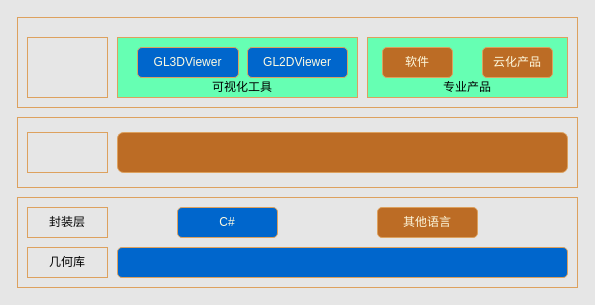
The diagram is 595 pixels wide and 305 high, and some of its shapes have lost their labels. The centre of each missing label's shape, as x and y in pixels:
CGLib（C++, 跨平台运行）: the point at 342,262
平台: the point at 342,152
平台层: the point at 67,152
应用层: the point at 67,67
